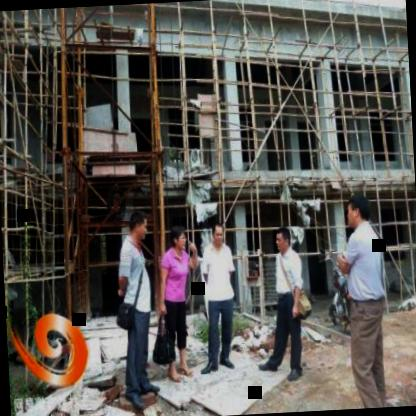head: (342, 190, 374, 232), (124, 206, 150, 248), (170, 221, 188, 254), (272, 224, 290, 254), (210, 221, 228, 246)
